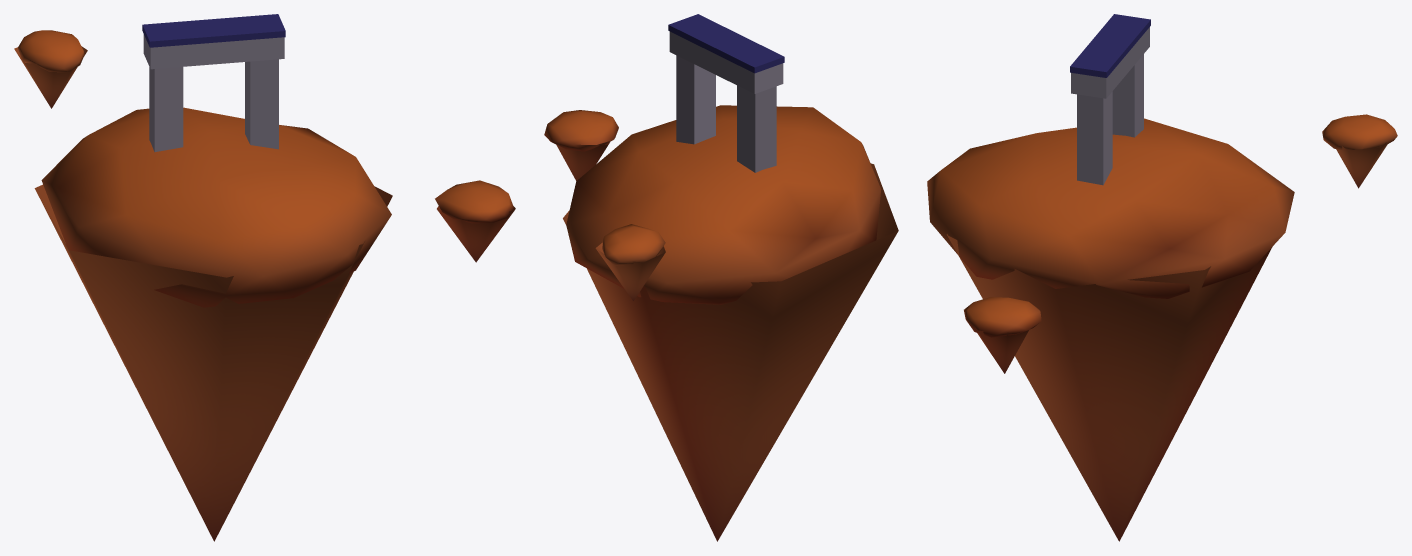
The model's file is MODULE_DESERT_VOID_ISLAND.fbx.
3 renders of one model, left to right at view 1: azimuth 30°, elevation 25°; view 2: azimuth 150°, elevation 25°; view 3: azimuth 270°, elevation 25°, orthographic. The views are drawn at different scales.
Visible parts, largest first — view 1: MODULE_DESERT_VOID_ISLAND_DECOR__export; view 2: MODULE_DESERT_VOID_ISLAND_DECOR__export; view 3: MODULE_DESERT_VOID_ISLAND_DECOR__export.
Part boxes in pixels (<box>): MODULE_DESERT_VOID_ISLAND_DECOR__export: <box>14,14,515,541</box>; MODULE_DESERT_VOID_ISLAND_DECOR__export: <box>544,14,898,541</box>; MODULE_DESERT_VOID_ISLAND_DECOR__export: <box>927,14,1397,541</box>.
Bounding box in the file's own units: 47.51 × 58.78 × 50.49.
